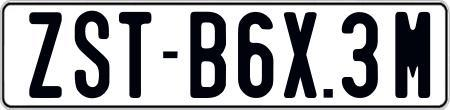3: (339, 10, 380, 99)
6: (238, 10, 275, 96)
B: (190, 9, 232, 96)
M: (394, 10, 431, 100)
S: (72, 8, 106, 100)
T: (119, 10, 153, 101)
X: (283, 9, 318, 96)
Z: (28, 10, 65, 101)
